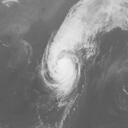cyclone: (40, 38, 85, 98)
